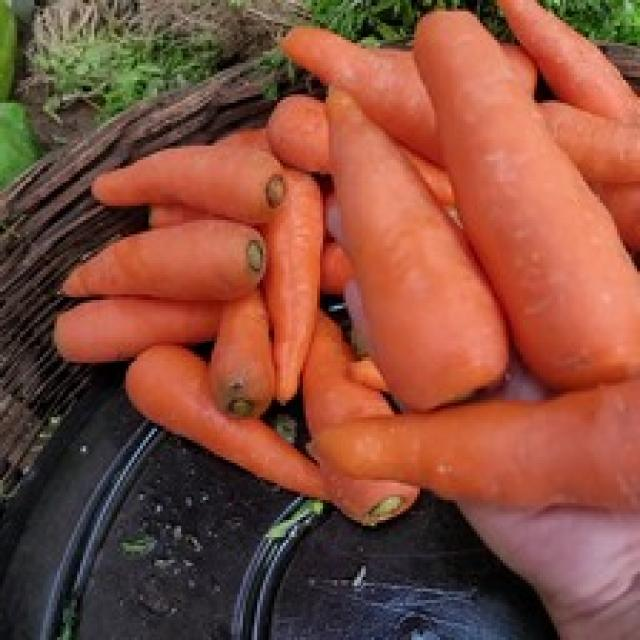Fresh_Carrot: (425, 7, 640, 386), (330, 89, 508, 402), (300, 378, 640, 506), (123, 345, 332, 481), (273, 19, 449, 169), (305, 303, 416, 516), (499, 7, 640, 134), (56, 226, 267, 301), (265, 172, 325, 400), (95, 156, 285, 217), (49, 297, 220, 362), (208, 291, 277, 419), (538, 106, 640, 190), (274, 100, 346, 178)
